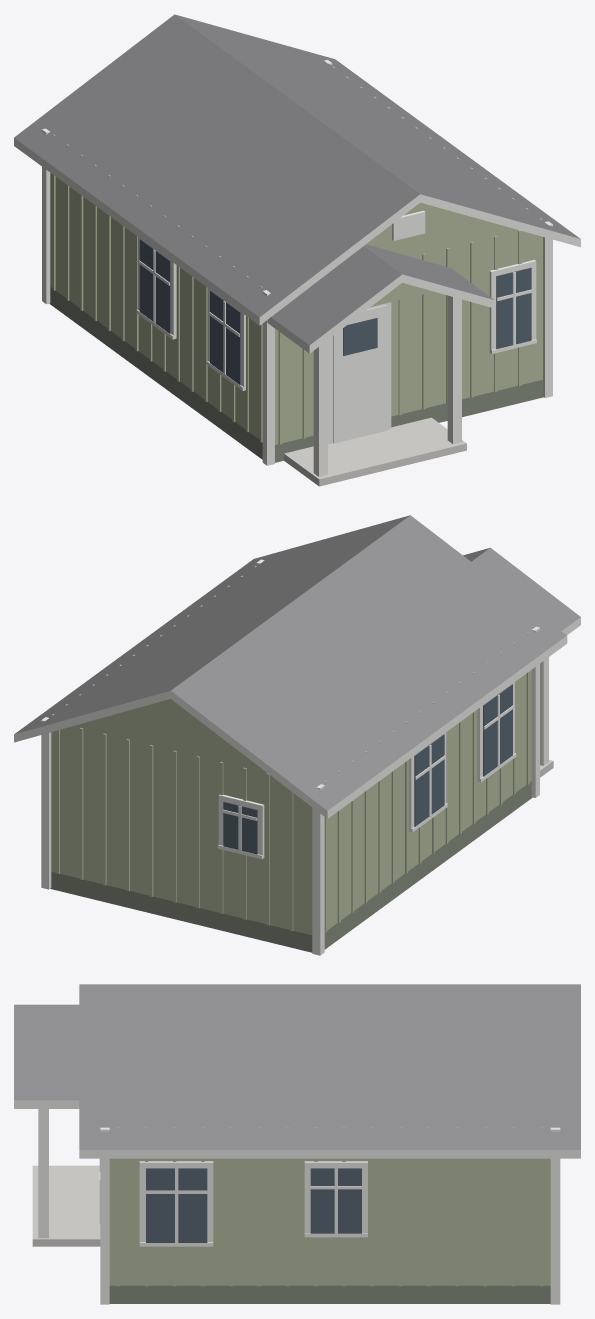
The model's file is apricot-sage.glb.
3 views of the same model, one above another, from view 1: azimuth 30°, elevation 25°; view 2: azimuth 150°, elevation 25°; view 3: azimuth 270°, elevation 25° (orthographic). The views are drawn at different scales.
Parts seen in each view (by area): view 1: The Apricot (sage); view 2: The Apricot (sage); view 3: The Apricot (sage).
Part boxes in pixels (bbox=[...]): The Apricot (sage): bbox=[14, 14, 580, 486]; The Apricot (sage): bbox=[14, 515, 580, 955]; The Apricot (sage): bbox=[14, 984, 580, 1304].
Size of the model in its own units: 5.64 by 4.11 by 8.44.
